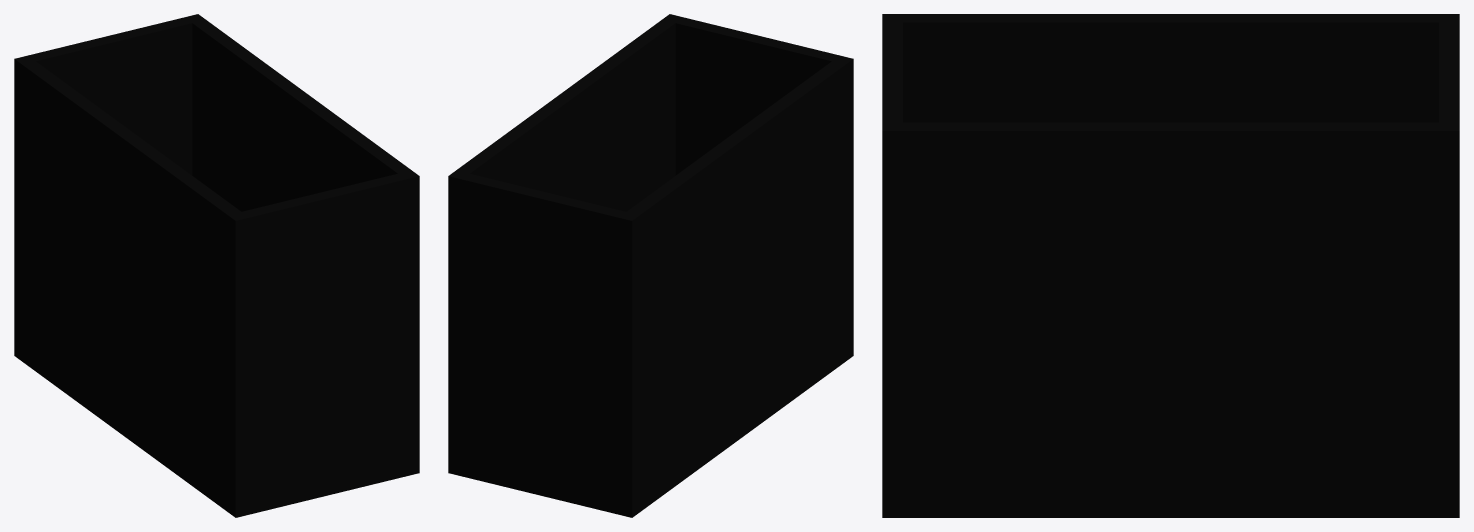
3 renders of one model, left to right at view 1: azimuth 30°, elevation 25°; view 2: azimuth 150°, elevation 25°; view 3: azimuth 270°, elevation 25°, orthographic. The views are drawn at different scales.
Parts seen in each view (by area): view 1: Box_267x557x412; view 2: Box_267x557x412; view 3: Box_267x557x412.
Part boxes in pixels (left/top/right/bottom): Box_267x557x412: left=14, top=14, right=419, bottom=517; Box_267x557x412: left=448, top=14, right=853, bottom=517; Box_267x557x412: left=882, top=14, right=1459, bottom=517.
Size of the model in its own units: 0.267 by 0.412 by 0.557.
Materials: 1 (1 with a texture image).
